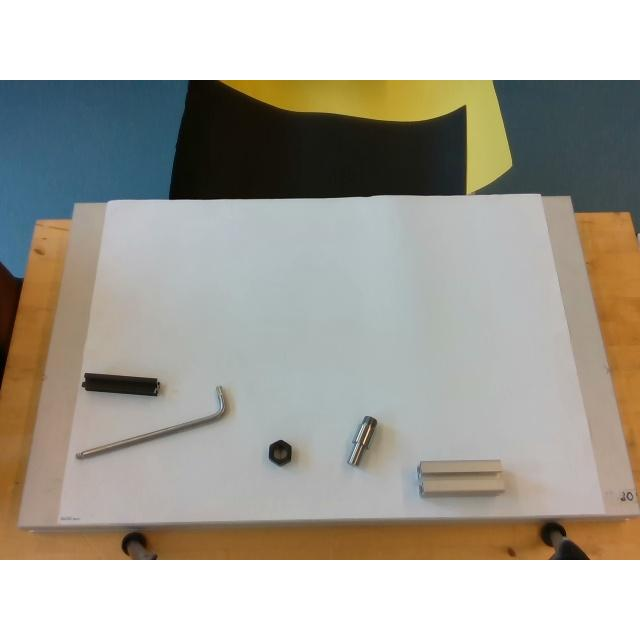AllenKey: (74, 386, 226, 458)
Axis2: (348, 416, 377, 464)
F20_20_B: (82, 372, 158, 396)
M20: (268, 439, 292, 465)
S40_40_G: (418, 459, 504, 495)
